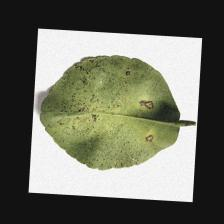canker: (48, 66, 119, 136)
